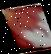dent: (0, 1, 51, 54)
